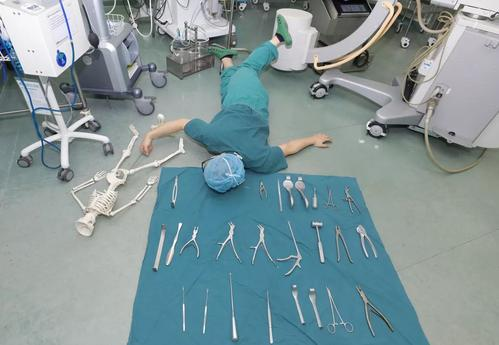fall: (132, 2, 332, 198)
